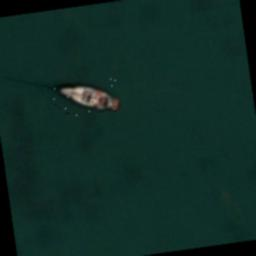boat: (52, 76, 122, 118)
